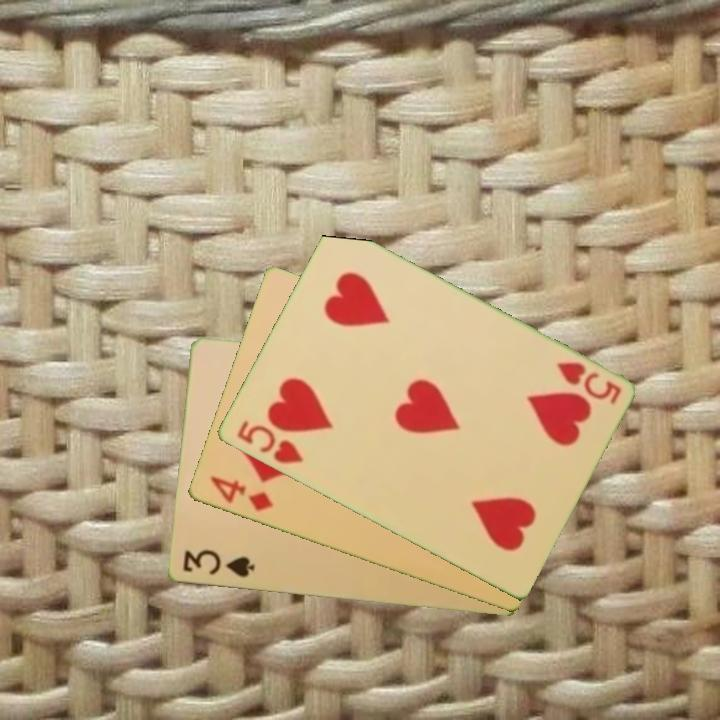3s: (178, 547, 257, 581)
4d: (206, 472, 276, 515)
5h: (232, 417, 306, 467), (552, 358, 624, 407)
